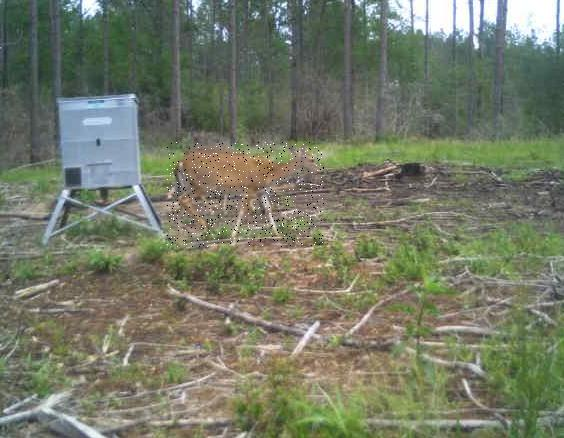Deer: (167, 142, 324, 247)
